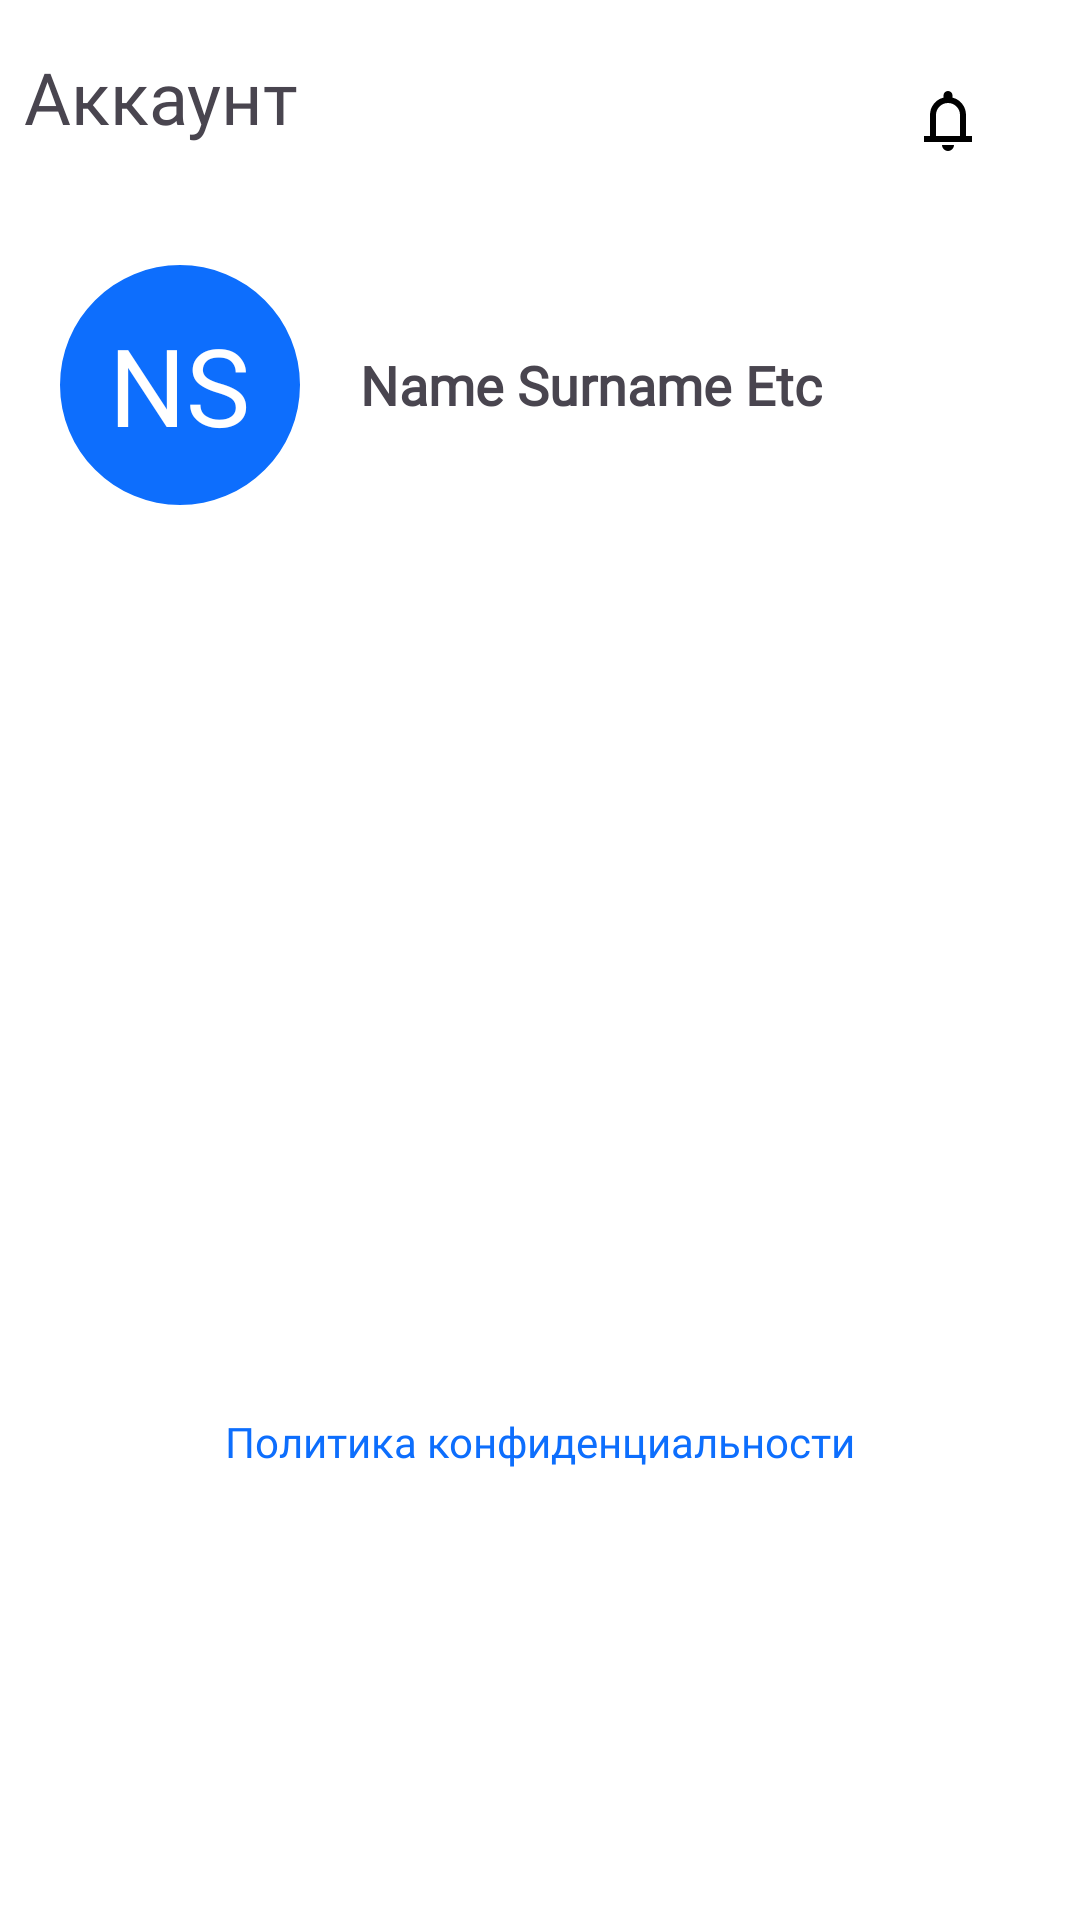

Locate icon controls on the screen. Image size 1080px×1920px, boxes as (x1, y1, x2, y2).
notification: (924, 91, 972, 151)
